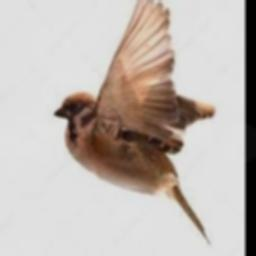Sparrow: (54, 0, 214, 244)
